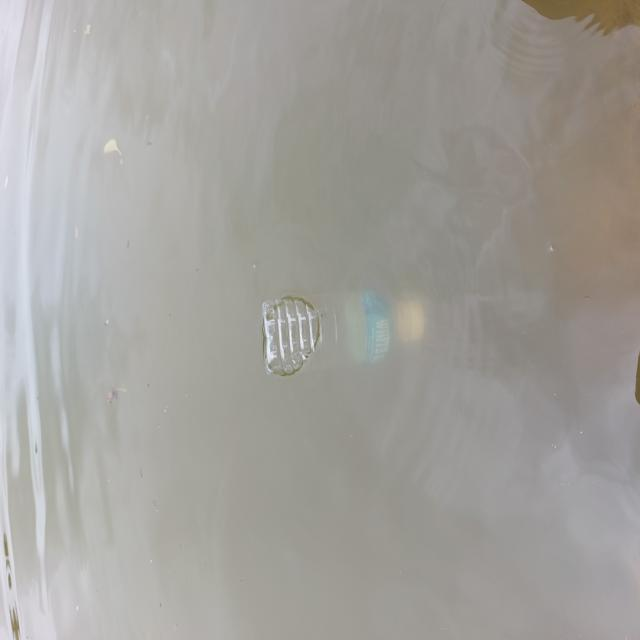waterbottle: (253, 269, 441, 388)
